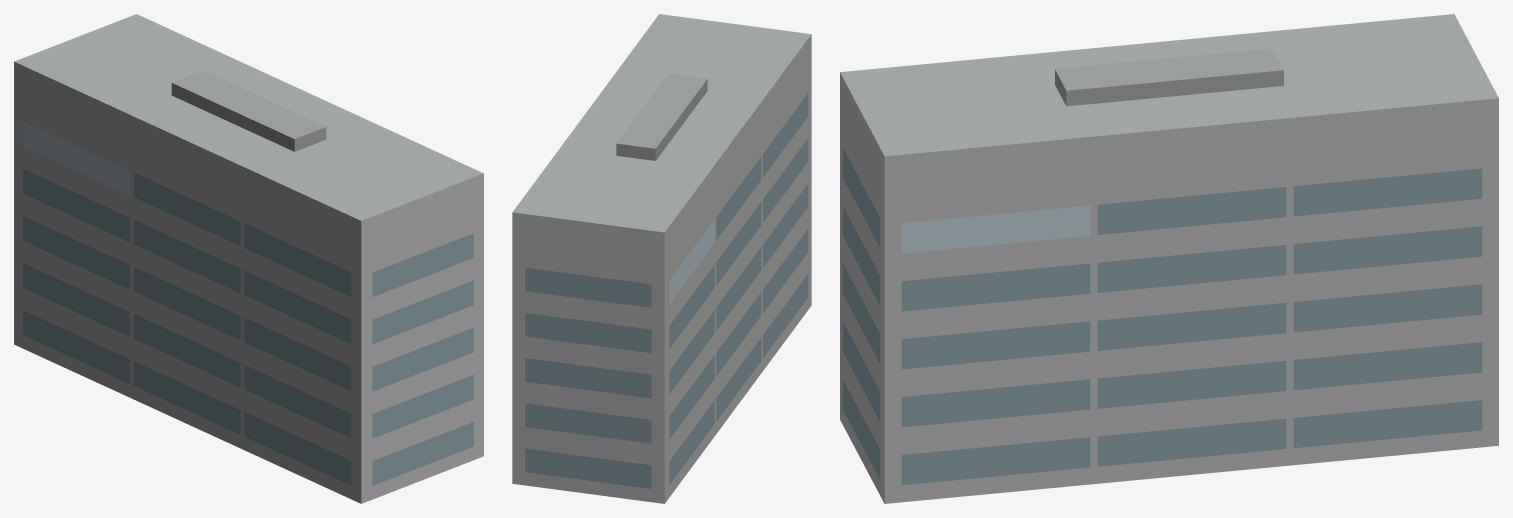
The model's file is fallback-olympic-athletes-village-230.glb.
3 renders of one model, left to right at view 1: azimuth 30°, elevation 25°; view 2: azimuth 150°, elevation 25°; view 3: azimuth 270°, elevation 25°, orthographic. The views are drawn at different scales.
Parts seen in each view (by area): view 1: fallback-olympic-athletes-village-230; view 2: fallback-olympic-athletes-village-230; view 3: fallback-olympic-athletes-village-230.
Part boxes in pixels (<box>): fallback-olympic-athletes-village-230: <box>14,14,483,503</box>; fallback-olympic-athletes-village-230: <box>512,14,811,503</box>; fallback-olympic-athletes-village-230: <box>840,14,1498,503</box>.
Size of the model in its own units: 16.09 by 19.12 by 31.45.
